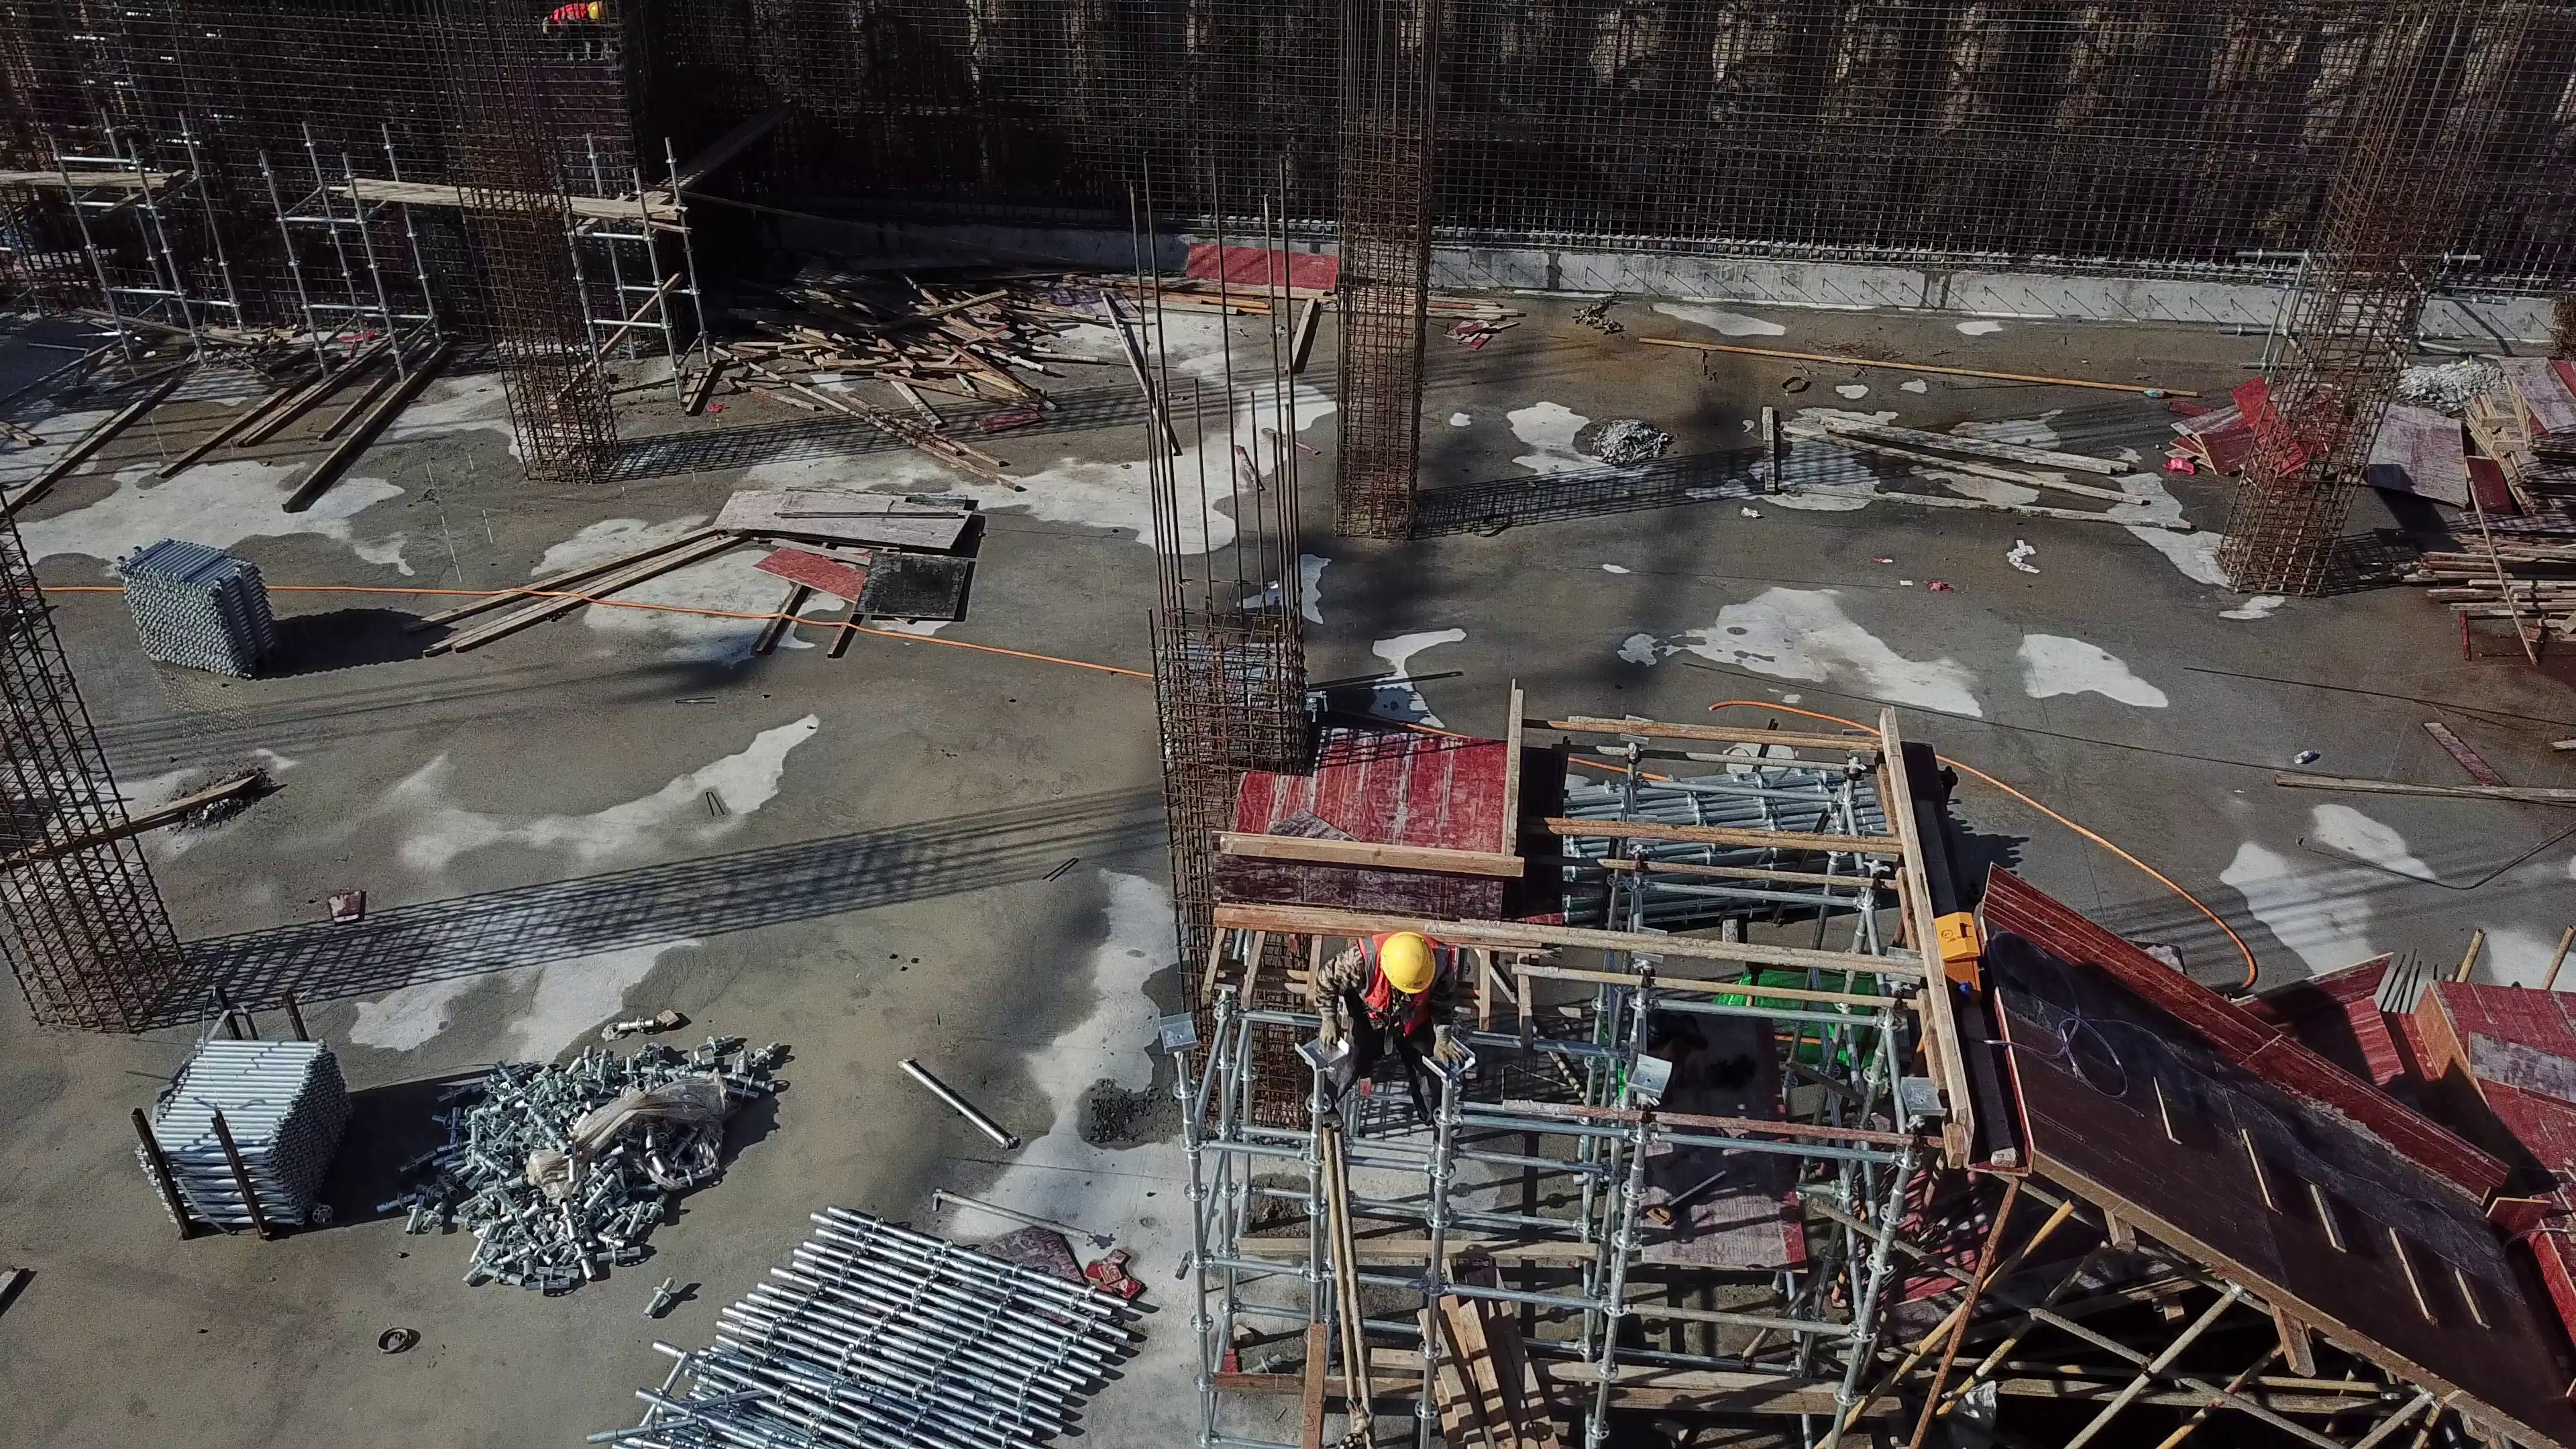board: (2465, 324, 2576, 506)
helmet: (1377, 930, 1436, 996)
person: (1296, 914, 1488, 1130)
scaffold: (635, 1209, 1123, 1449), (154, 1019, 357, 1238), (1568, 763, 1879, 890)
vest: (1348, 933, 1387, 1020)
